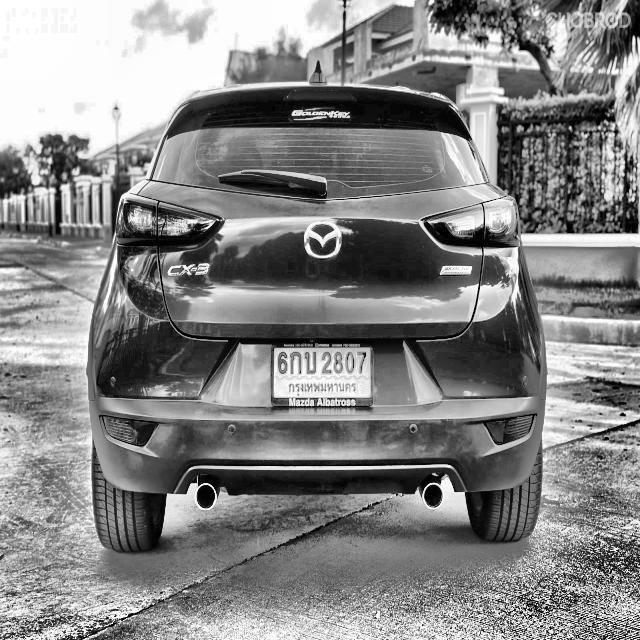license-plate: (268, 339, 378, 415)
